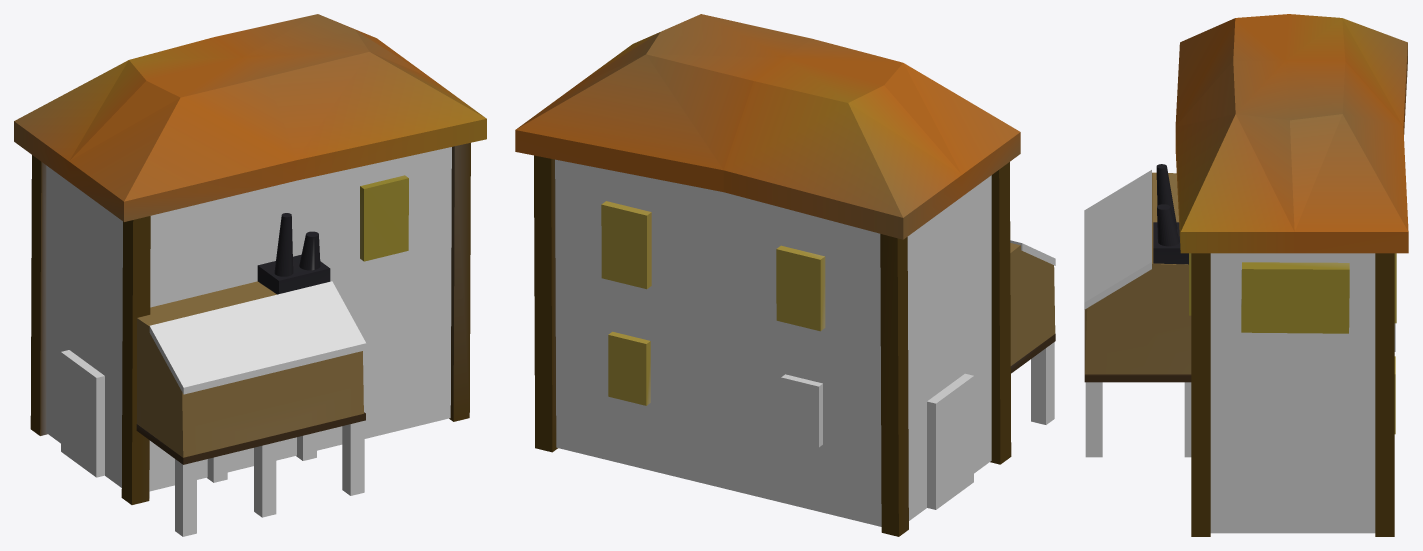
The model's file is barak.dae.
3 views of the same model, side by side, from view 1: azimuth 30°, elevation 25°; view 2: azimuth 150°, elevation 25°; view 3: azimuth 270°, elevation 25° (orthographic). The views are drawn at different scales.
Visible parts, largest first — view 1: Куб.010, Куб.015, Куб.007, Куб.008, Куб.012, Куб.014, Куб.022, Куб.011, Куб.016, Куб.009, Куб.006, Куб.002 (+2 smaller); view 2: Куб.010, Куб.015, Куб.011, Куб.013, Куб.012, Куб.022, Куб.007, Куб.017, Куб.018, Куб.020, Куб.019, Куб.003; view 3: Куб.015, Куб.010, Куб.007, Куб.021, Куб.008, Куб.014, Куб.013, Куб.009, Куб, Куб.006, Куб.001.
Part boxes in pixels (<box>): Куб.010: <box>46,147,451,491</box>; Куб.015: <box>14,14,486,221</box>; Куб.007: <box>137,281,363,457</box>; Куб.008: <box>149,281,366,394</box>; Куб.012: <box>121,216,150,504</box>; Куб.014: <box>449,143,470,421</box>; Куб.022: <box>61,350,104,477</box>; Куб.011: <box>30,155,47,435</box>; Куб.016: <box>360,175,408,261</box>; Куб.009: <box>257,213,330,294</box>; Куб.006: <box>136,412,365,464</box>; Куб.002: <box>254,442,276,517</box>; Куб.010: <box>555,159,991,526</box>; Куб.015: <box>515,14,1020,239</box>; Куб.011: <box>880,234,908,536</box>; Куб.013: <box>534,155,557,452</box>; Куб.012: <box>990,162,1011,464</box>; Куб.022: <box>927,373,973,509</box>; Куб.007: <box>1010,243,1055,365</box>; Куб.017: <box>601,201,651,289</box>; Куб.018: <box>776,245,825,331</box>; Куб.020: <box>608,331,650,405</box>; Куб.019: <box>781,374,822,447</box>; Куб.003: <box>1031,342,1054,424</box>; Куб.015: <box>1175,14,1408,253</box>; Куб.010: <box>1210,253,1375,533</box>; Куб.007: <box>1085,172,1191,374</box>; Куб.021: <box>1241,262,1349,333</box>; Куб.008: <box>1084,170,1151,309</box>; Куб.014: <box>1191,253,1210,536</box>; Куб.013: <box>1375,253,1394,536</box>; Куб.009: <box>1153,164,1188,264</box>; Куб: <box>1085,382,1102,457</box>; Куб.006: <box>1084,310,1191,382</box>; Куб.001: <box>1184,382,1191,457</box>.
Bounding box in the file's own units: 4.58 × 3.41 × 4.47.
